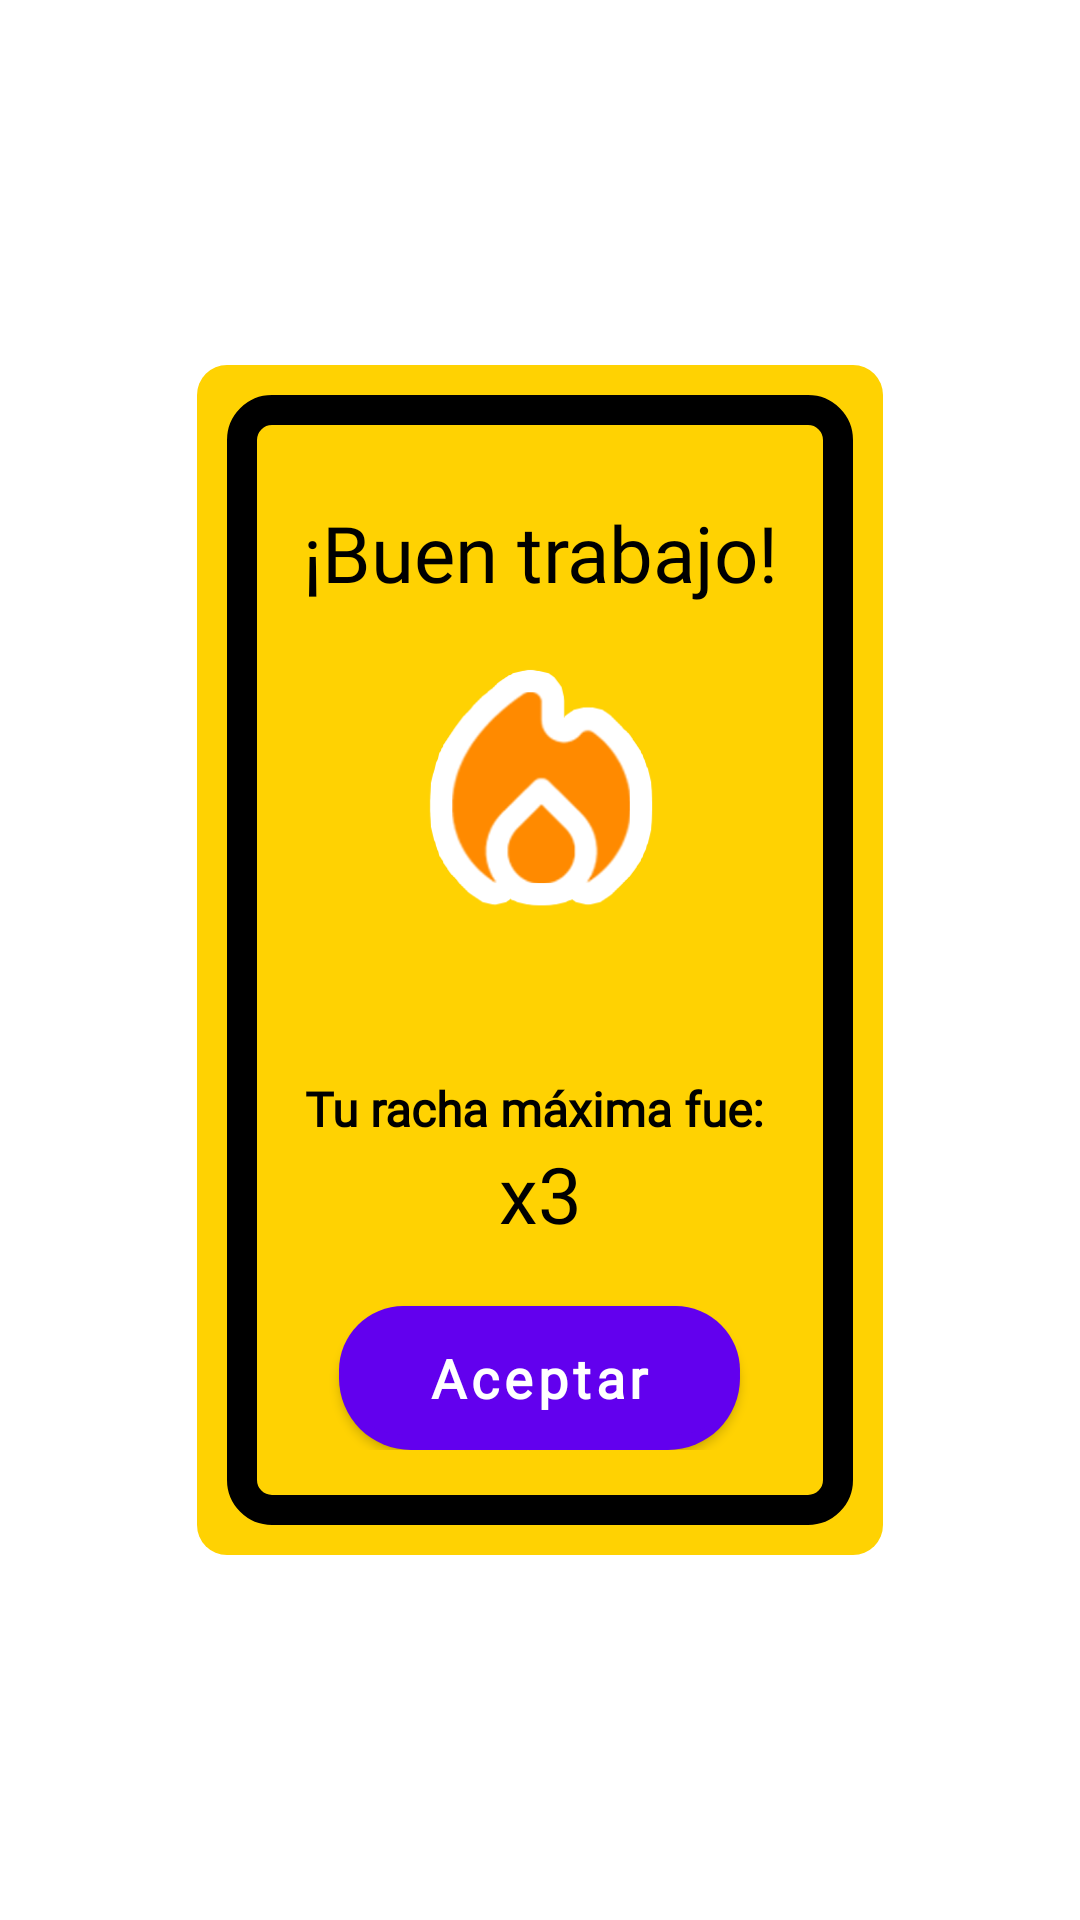

Screen size 1080 x 1920. Icon name, then its box in pixels as (x1, y1, x2, y2):
fire: (430, 670, 653, 906)
